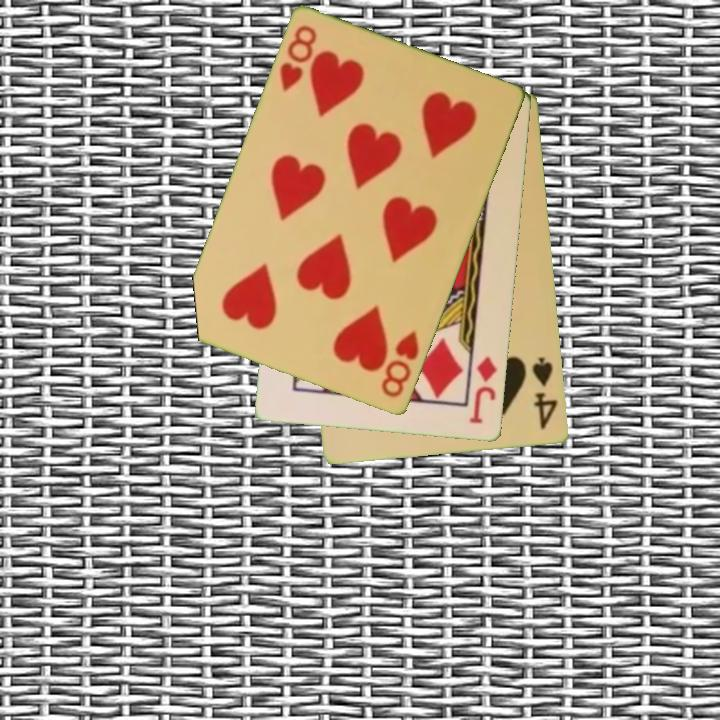4s: (529, 354, 561, 433)
8h: (378, 327, 423, 401), (276, 22, 320, 96)
Jd: (467, 353, 501, 427)
